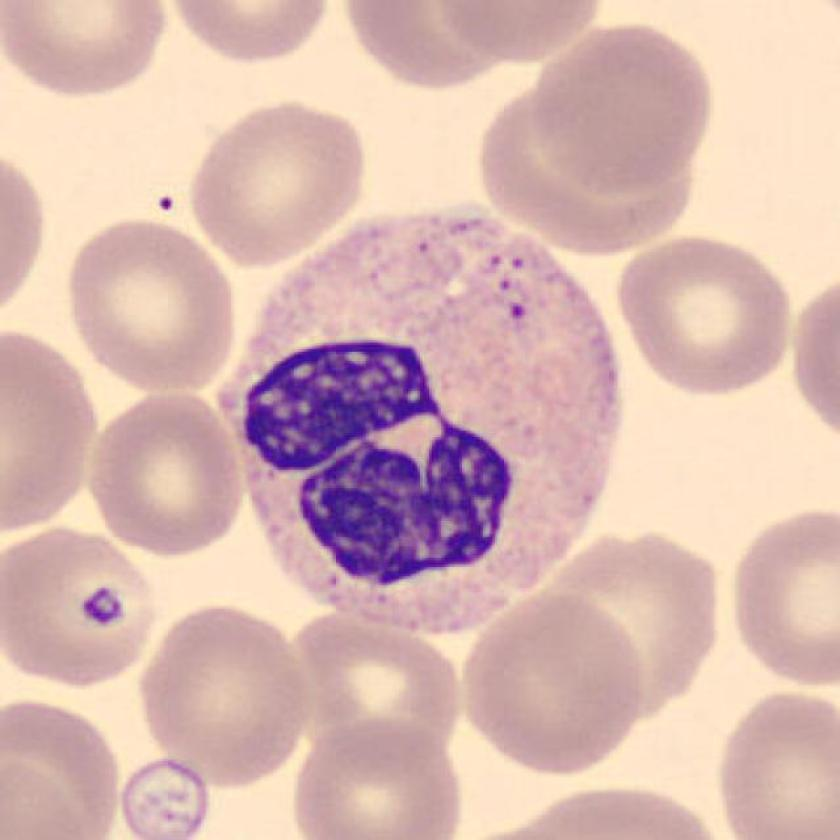neutrophil: (218, 215, 619, 635)
